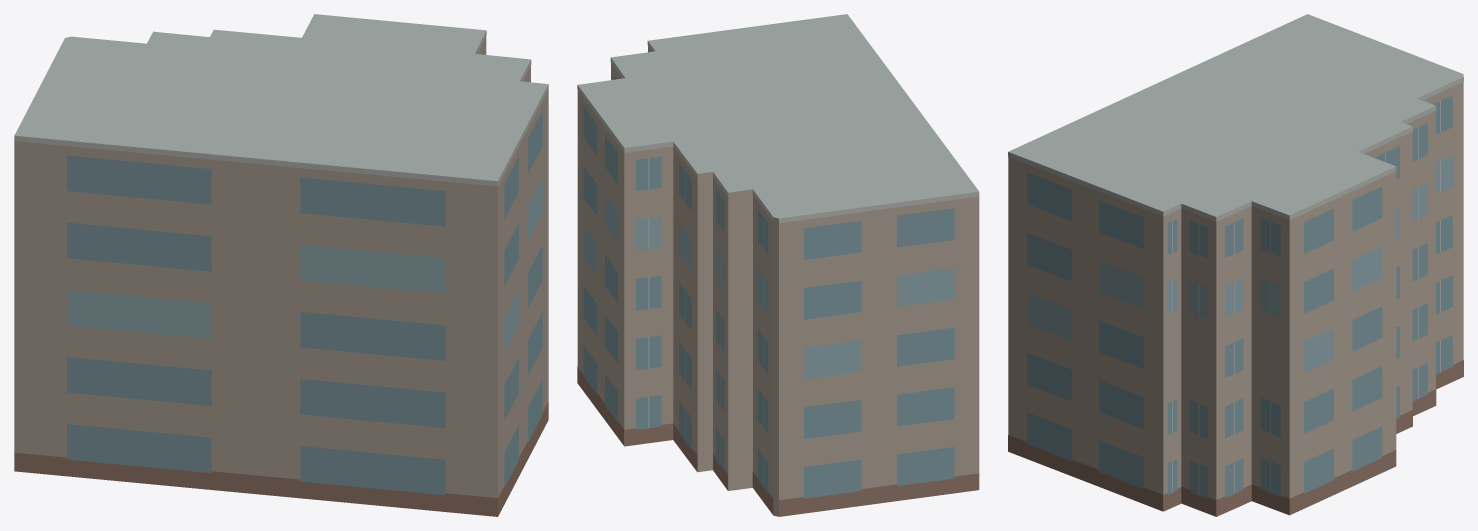
The model's file is survey-upis-32752308.glb.
3 views of the same model, side by side, from view 1: azimuth 30°, elevation 25°; view 2: azimuth 150°, elevation 25°; view 3: azimuth 270°, elevation 25° (orthographic). The views are drawn at different scales.
Parts seen in each view (by area): view 1: survey-upis-32752308.tmp; view 2: survey-upis-32752308.tmp; view 3: survey-upis-32752308.tmp.
Boxes of the visible parts, <box> form: survey-upis-32752308.tmp: <box>14,14,548,516</box>; survey-upis-32752308.tmp: <box>577,14,979,516</box>; survey-upis-32752308.tmp: <box>1008,14,1463,516</box>.
Size of the model in its own units: 22.15 by 15.25 by 21.01.
